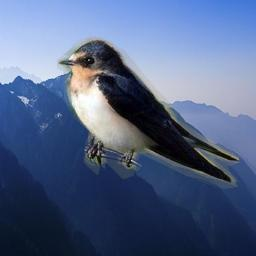Swallow: (57, 36, 239, 189)
